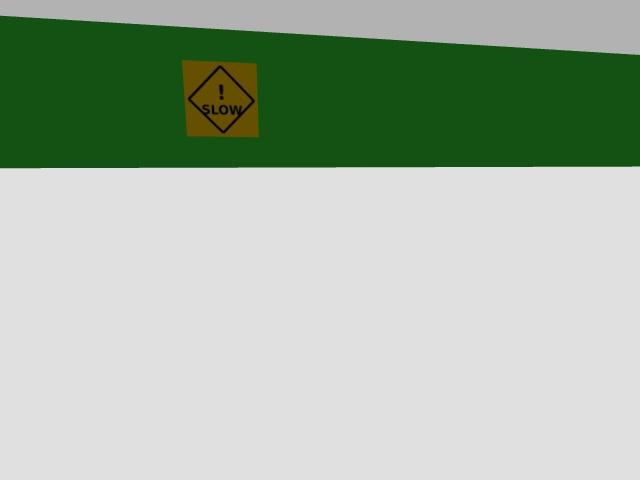slow: (183, 60, 257, 136)
